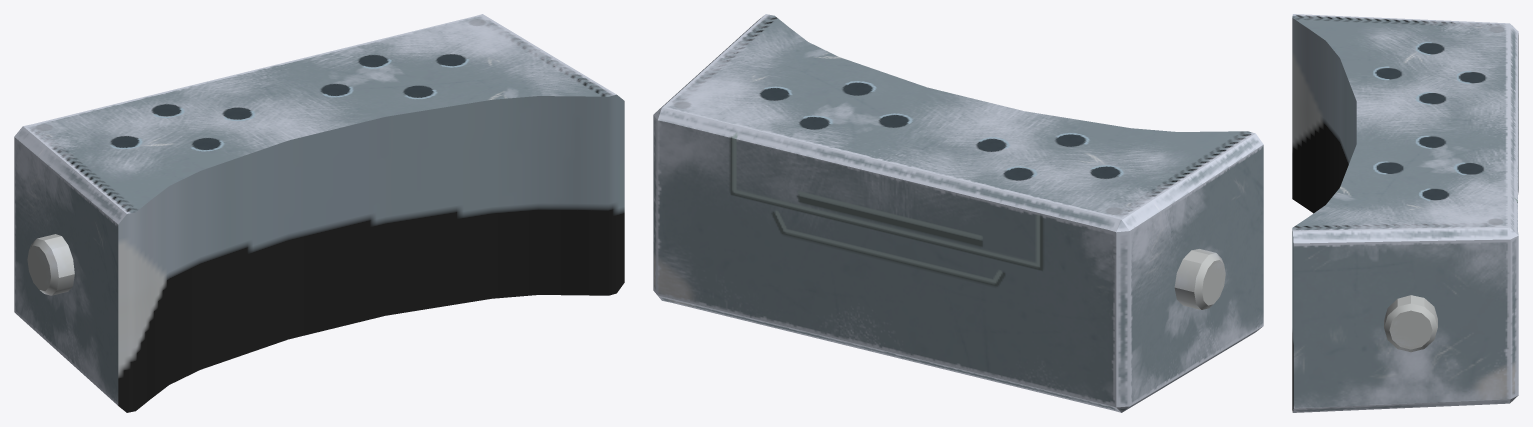
File: TelesphereMask_part1.gltf
The picture shows the model from 3 angles, left to right: view 1: azimuth 30°, elevation 25°; view 2: azimuth 150°, elevation 25°; view 3: azimuth 270°, elevation 25°; orthographic projection. The views are drawn at different scales.
Visible parts, largest first — view 1: Telesphere_part1; view 2: Telesphere_part1; view 3: Telesphere_part1.
Boxes of the visible parts, x1=… form: Telesphere_part1: x1=14, y1=14, x2=624, y2=412; Telesphere_part1: x1=653, y1=14, x2=1263, y2=412; Telesphere_part1: x1=1292, y1=14, x2=1518, y2=412.
Size of the model in its own units: 0.4626 by 0.1639 by 0.1855.
1 material, 1 textured.
